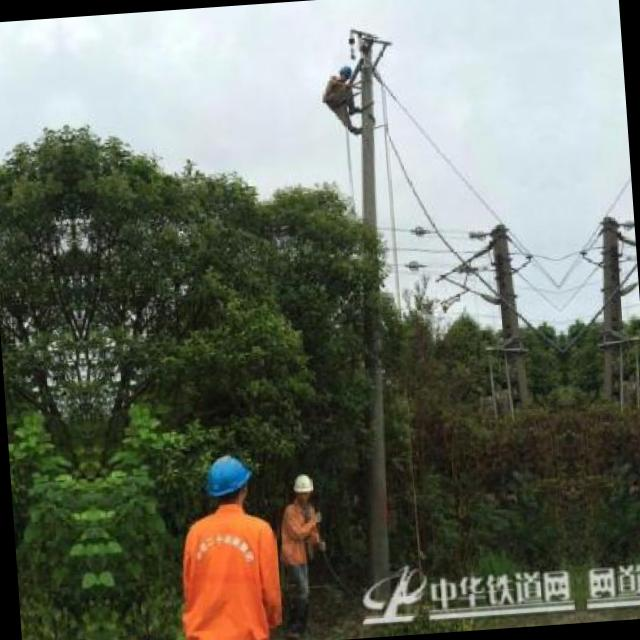helmet: (198, 450, 255, 509), (288, 470, 318, 506), (333, 61, 353, 85)
